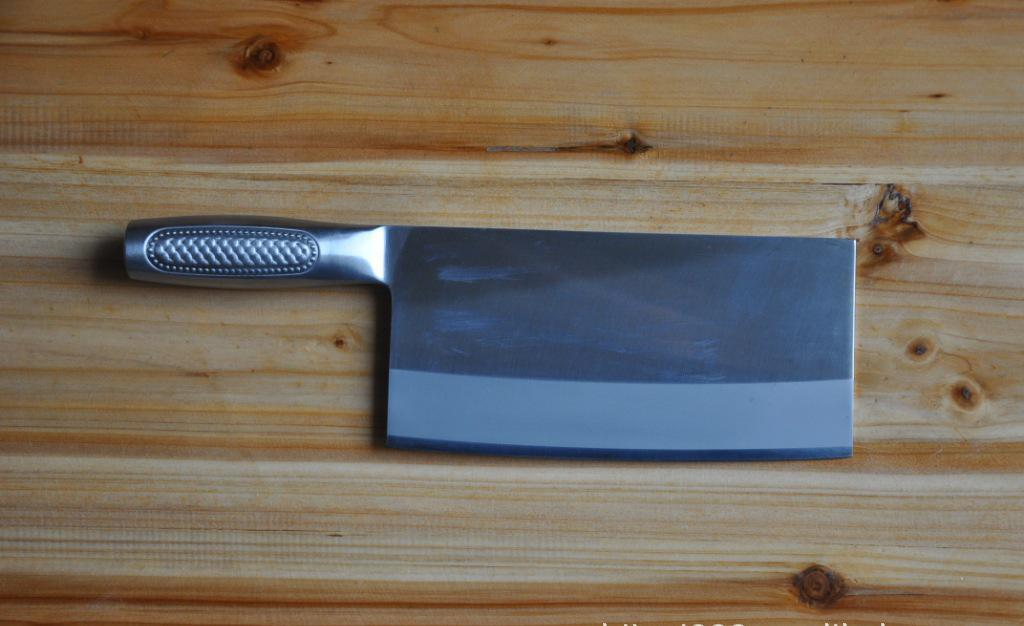knief: (89, 185, 902, 462)
